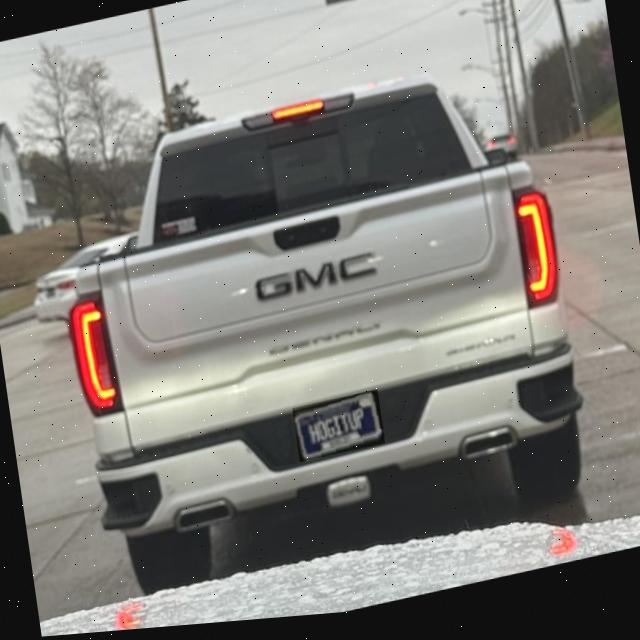LicensePlate: (294, 397, 384, 466)
